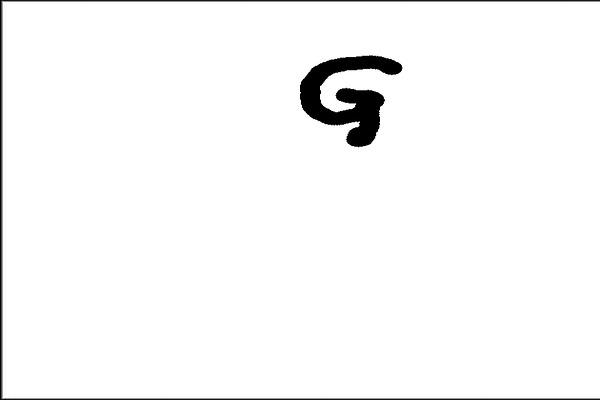G: (295, 51, 406, 150)
